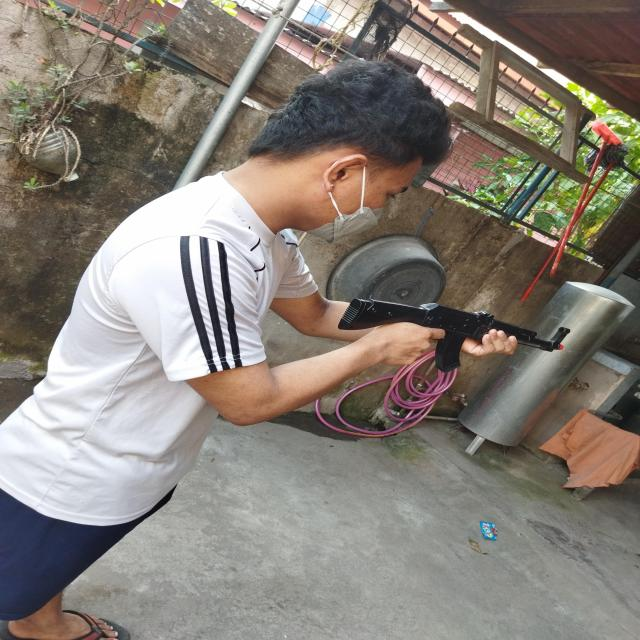rifle: (338, 299, 573, 373)
